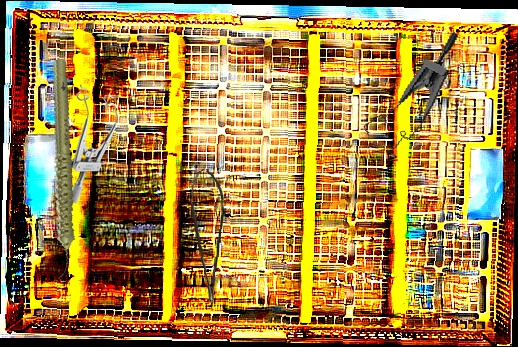Handpiece: (7, 56, 113, 282)
Micro Scissor: (182, 167, 228, 304)
Speculum: (357, 14, 461, 166), (69, 83, 119, 204)
